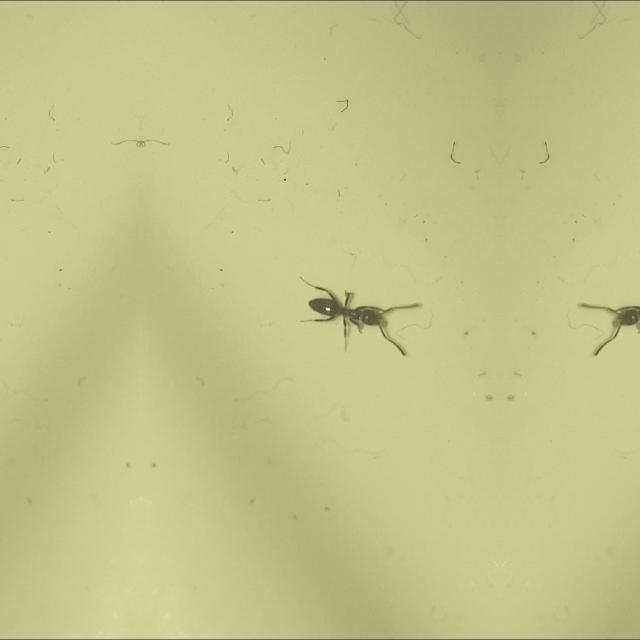Tapinoma: (294, 258, 404, 366), (594, 256, 640, 366)
